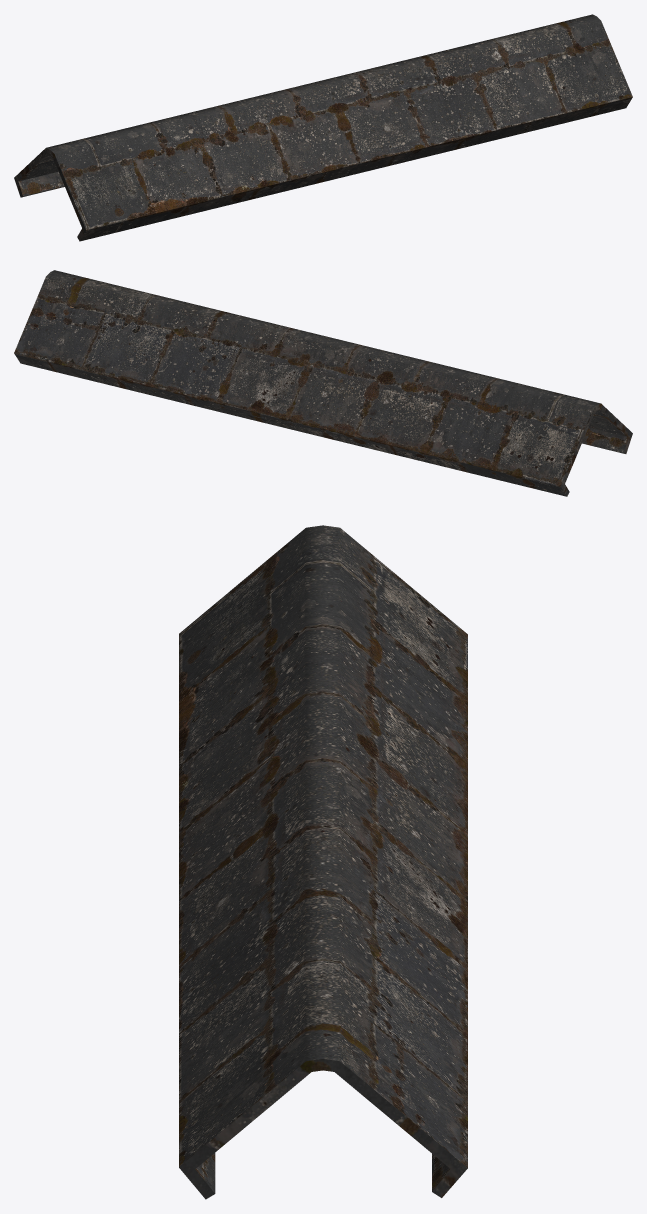
The model's file is RoofNarrow_Top.fbx.
The picture shows the model from 3 angles, top to bottom: view 1: azimuth 30°, elevation 25°; view 2: azimuth 150°, elevation 25°; view 3: azimuth 270°, elevation 25°; orthographic projection. The views are drawn at different scales.
Parts seen in each view (by area): view 1: RoofNarrow_Top; view 2: RoofNarrow_Top; view 3: RoofNarrow_Top.
Part boxes in pixels (x1,y1,x2,y2): RoofNarrow_Top: [14, 14, 632, 241]; RoofNarrow_Top: [14, 270, 632, 496]; RoofNarrow_Top: [179, 525, 467, 1199].
Bounding box in the file's own units: 200 × 24.65 × 45.93.
